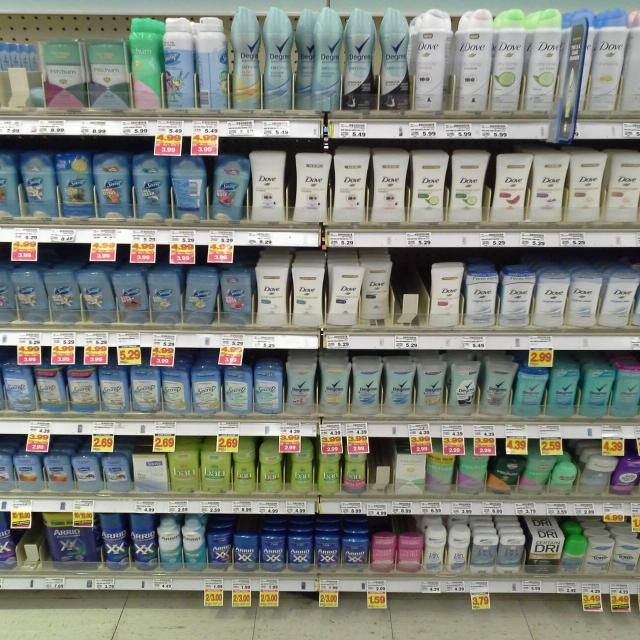empty: (1, 35, 41, 113), (395, 251, 429, 327), (370, 439, 394, 494)
